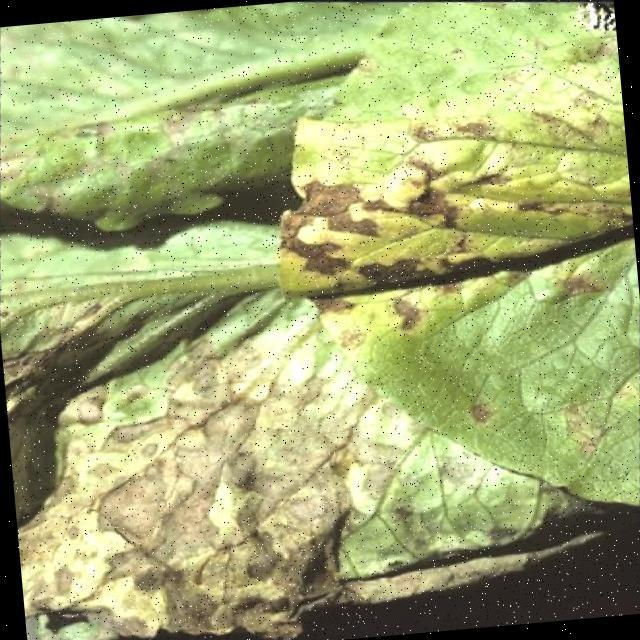Septoria_Blight_on_lettuce: (84, 366, 371, 619)
